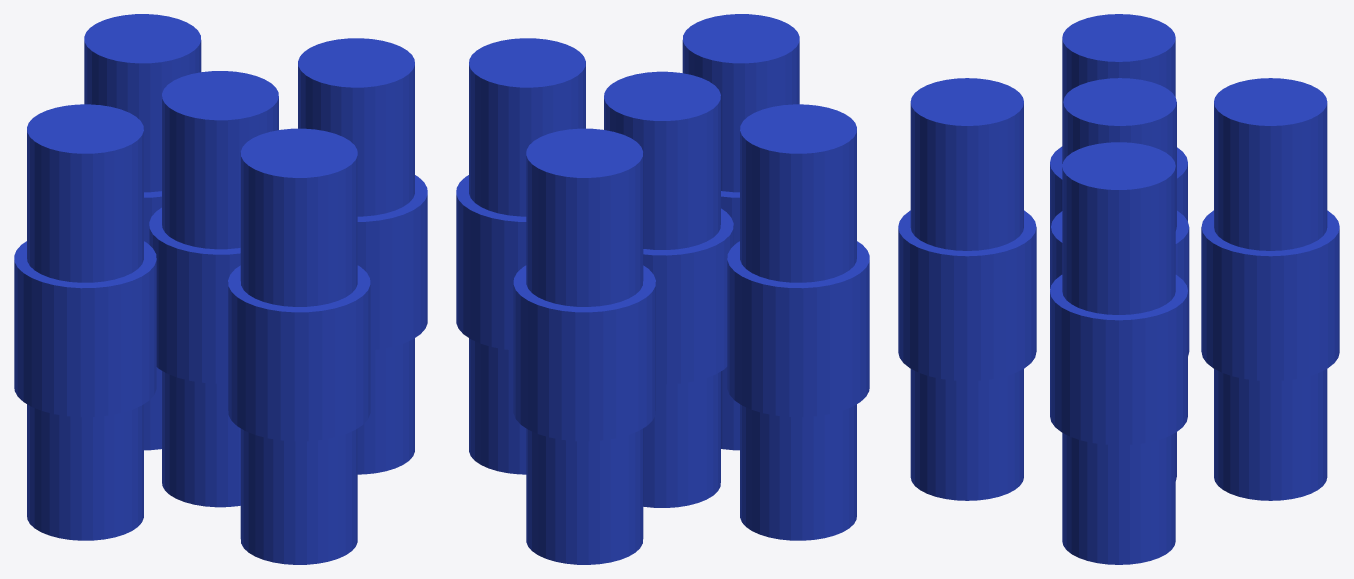
File: bumper02.fbx
The picture shows the model from 3 angles, left to right: view 1: azimuth 30°, elevation 25°; view 2: azimuth 150°, elevation 25°; view 3: azimuth 270°, elevation 25°; orthographic projection. The views are drawn at different scales.
Visible parts, largest first — view 1: bumper02; view 2: bumper02; view 3: bumper02.
Part boxes in pixels (x1,y1,x2,y2): bumper02: [14, 14, 427, 564]; bumper02: [456, 14, 869, 564]; bumper02: [898, 14, 1339, 564].
Bounding box in the file's own units: 100 × 93.72 × 100.
